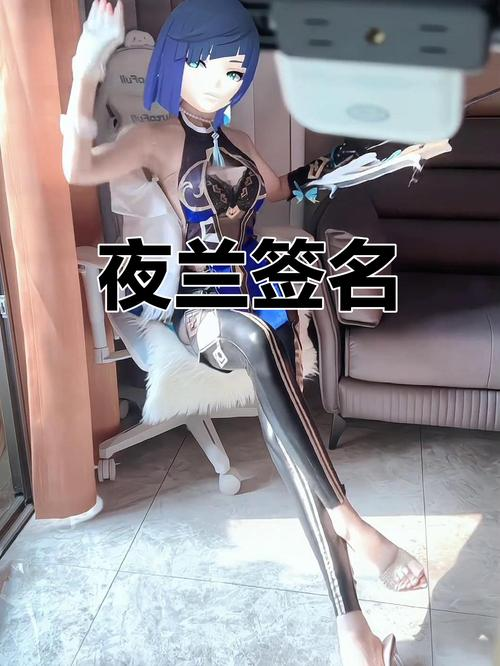夜兰: (62, 6, 431, 666)
